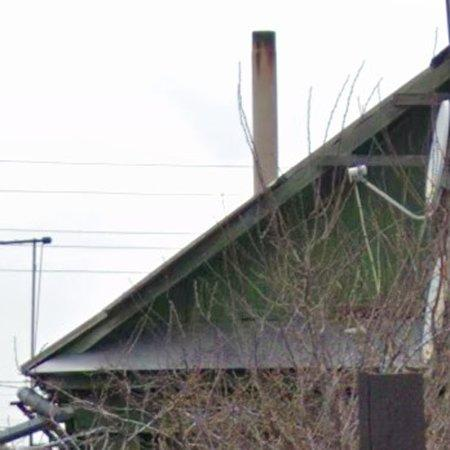chimneys: (253, 31, 279, 194)
